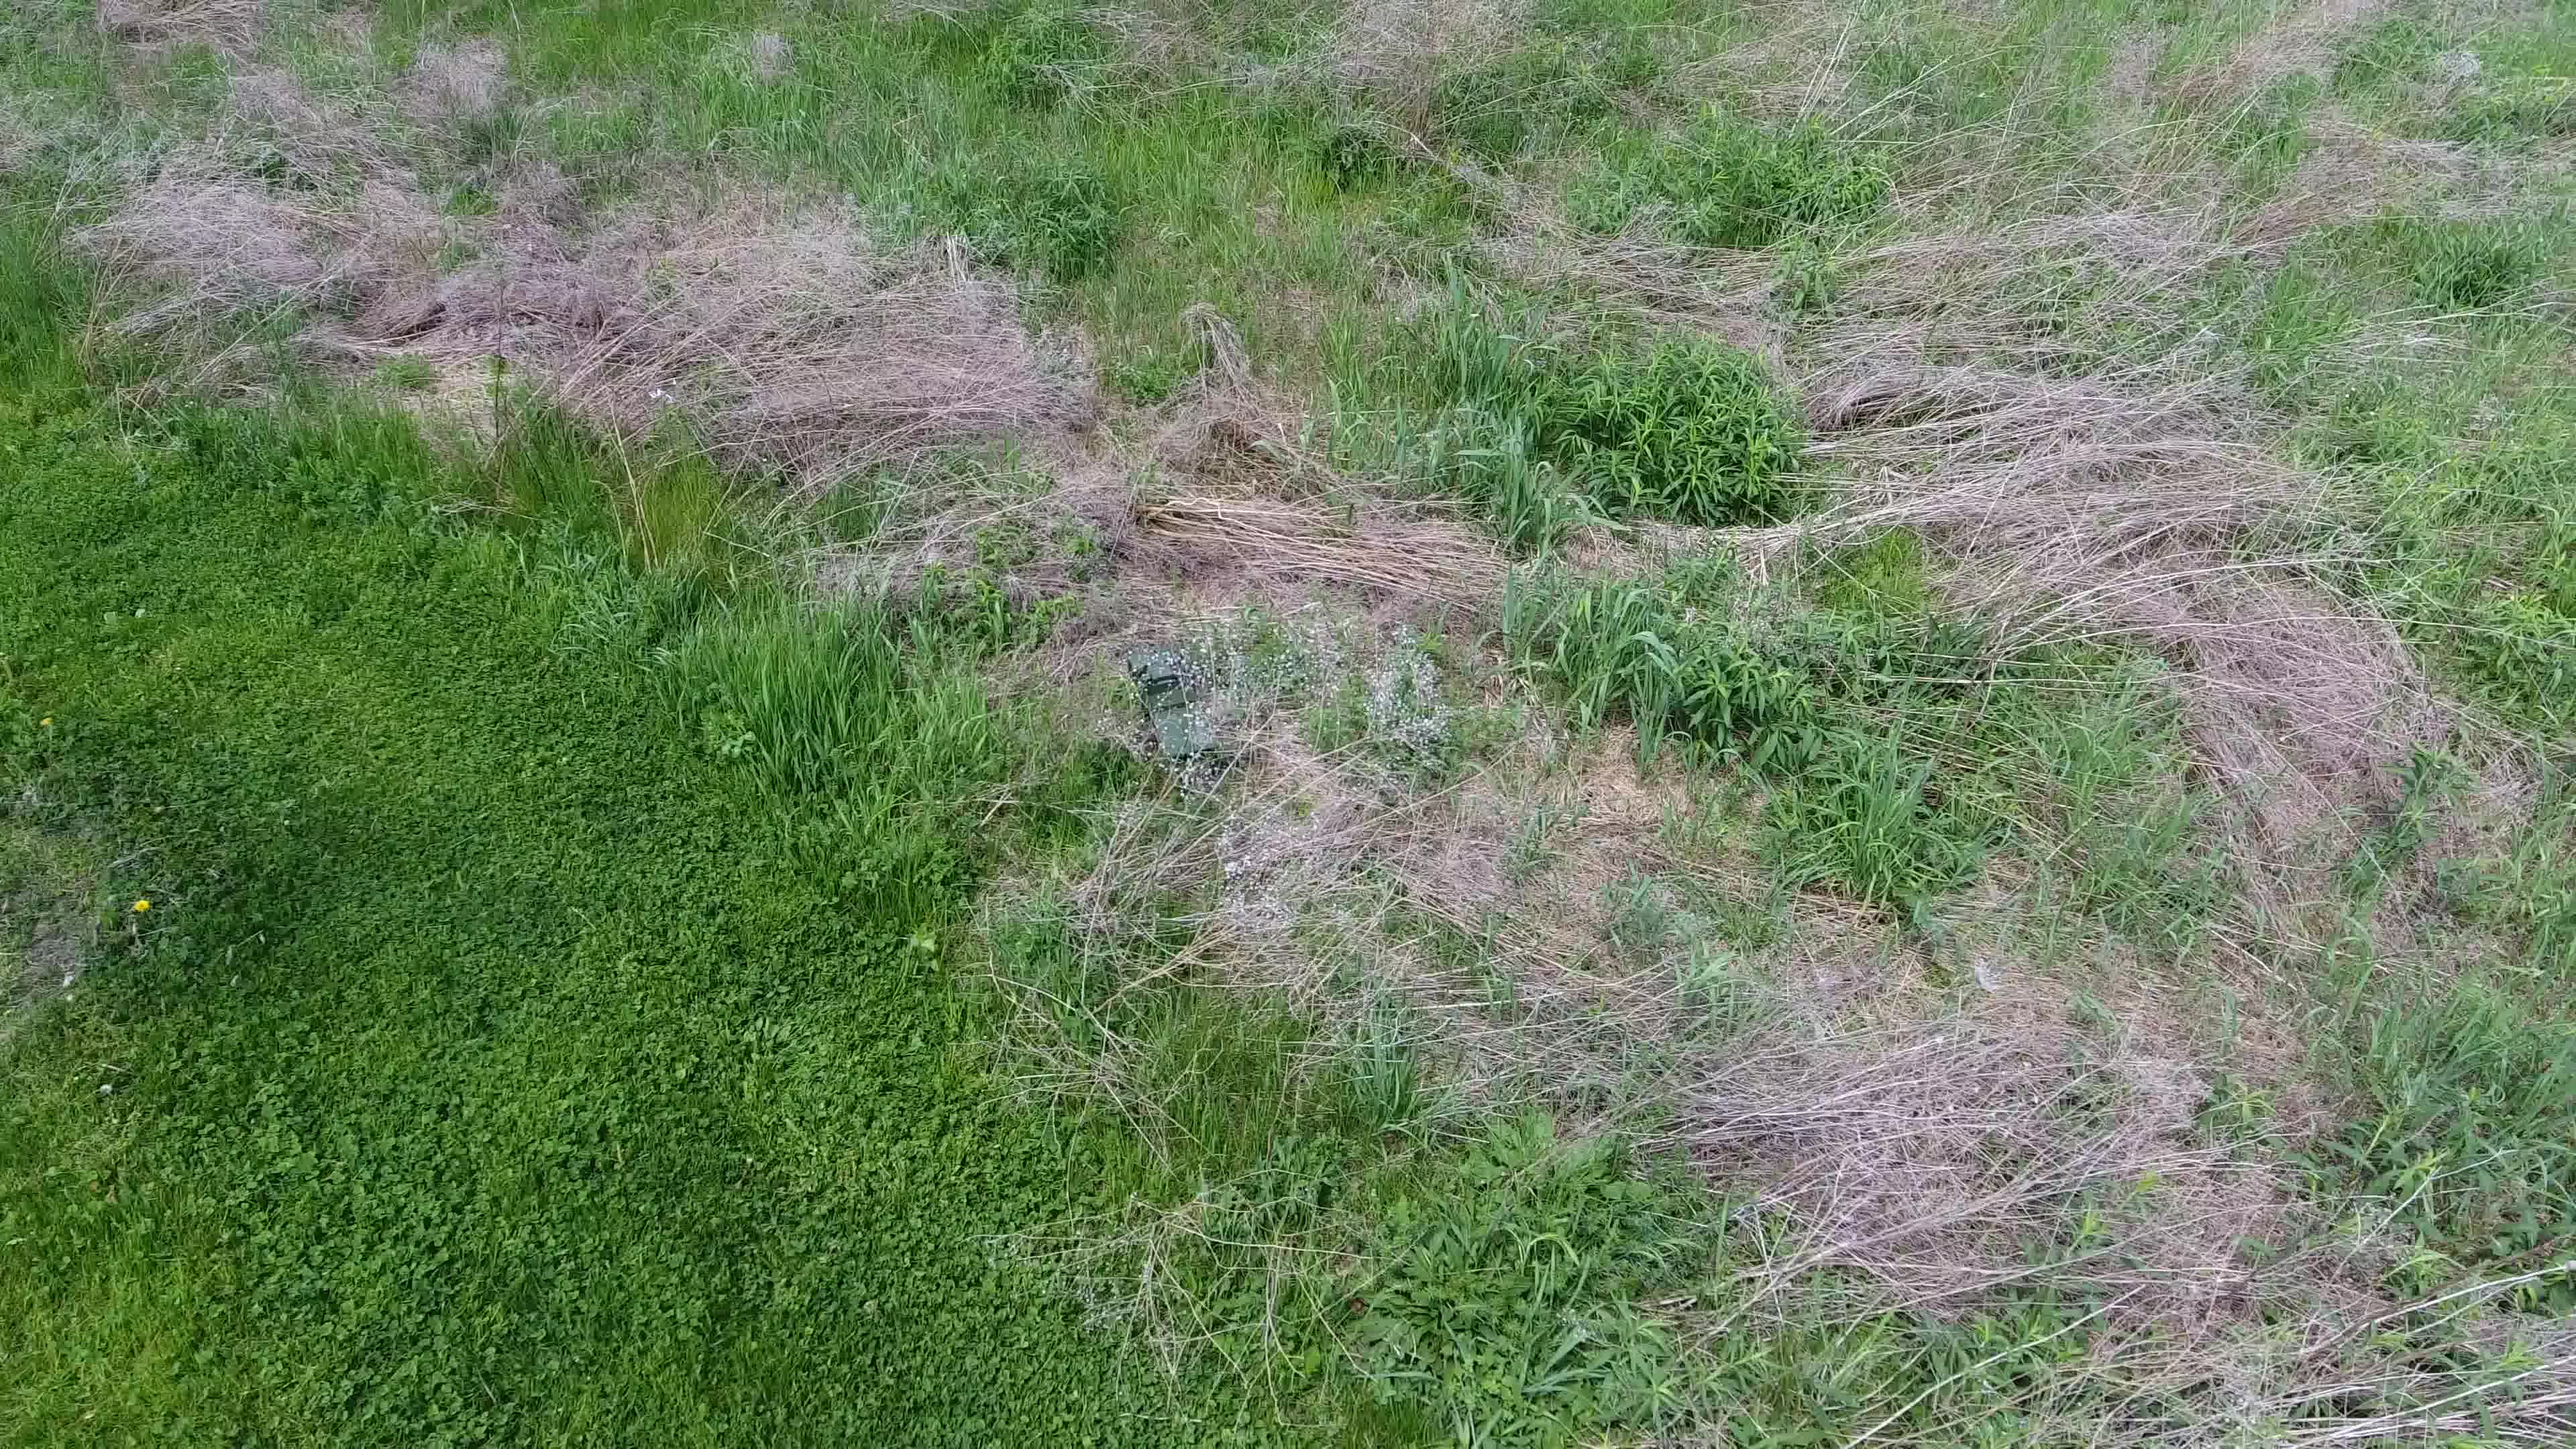transporter9: (1123, 651, 1228, 766)
